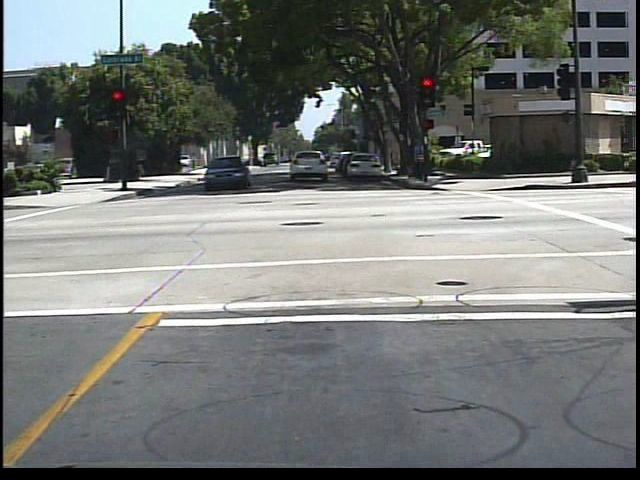person: (411, 137, 429, 184)
